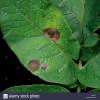Potato leaf early blight: (0, 0, 79, 86)
